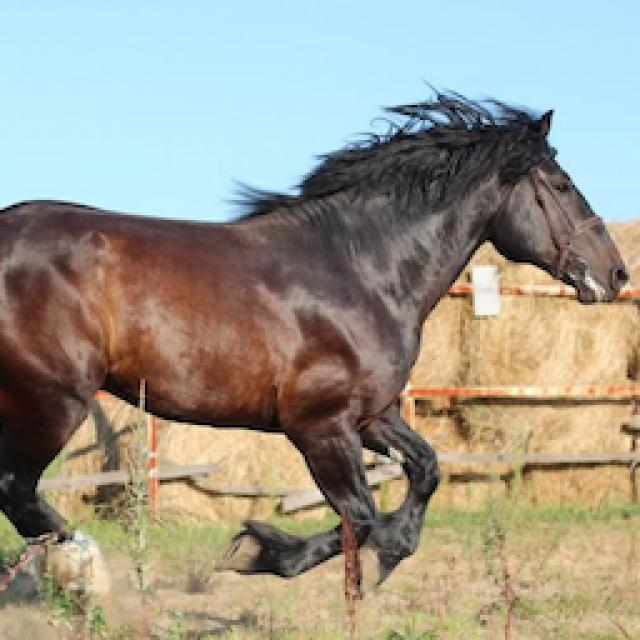Horse: (0, 82, 635, 628)
